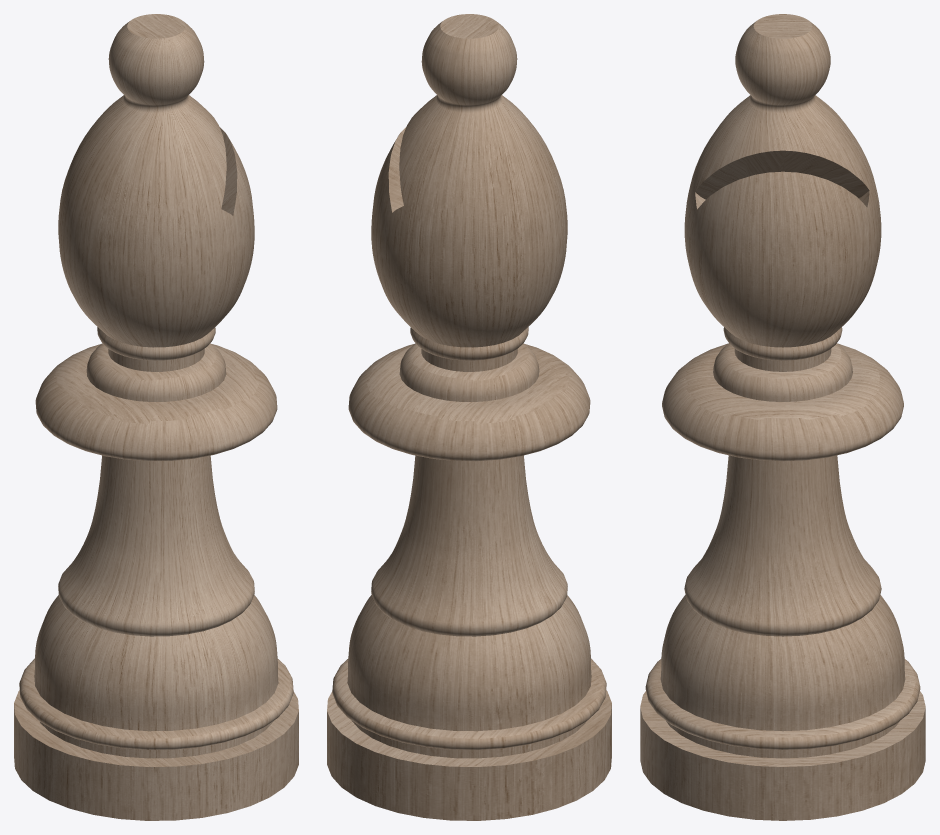
The model's file is white-bishop.glb.
3 renders of one model, left to right at view 1: azimuth 30°, elevation 25°; view 2: azimuth 150°, elevation 25°; view 3: azimuth 270°, elevation 25°, orthographic.
Parts seen in each view (by area): view 1: ScacchiBianchi_Alfiere.001_white_0; view 2: ScacchiBianchi_Alfiere.001_white_0; view 3: ScacchiBianchi_Alfiere.001_white_0.
Boxes of the visible parts, x1,y1,x2,y2 form: ScacchiBianchi_Alfiere.001_white_0: (14, 14, 298, 820); ScacchiBianchi_Alfiere.001_white_0: (327, 14, 611, 820); ScacchiBianchi_Alfiere.001_white_0: (640, 14, 925, 820).
Size of the model in its own units: 3 by 8.51 by 3.
Materials: 1 (1 with a texture image).
